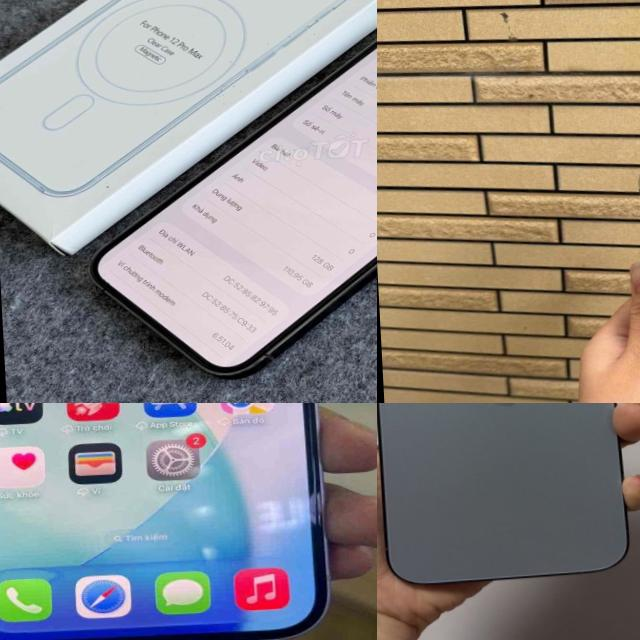gen_12_13: (64, 7, 377, 391), (377, 403, 628, 584)
gen_14: (0, 403, 343, 640)
